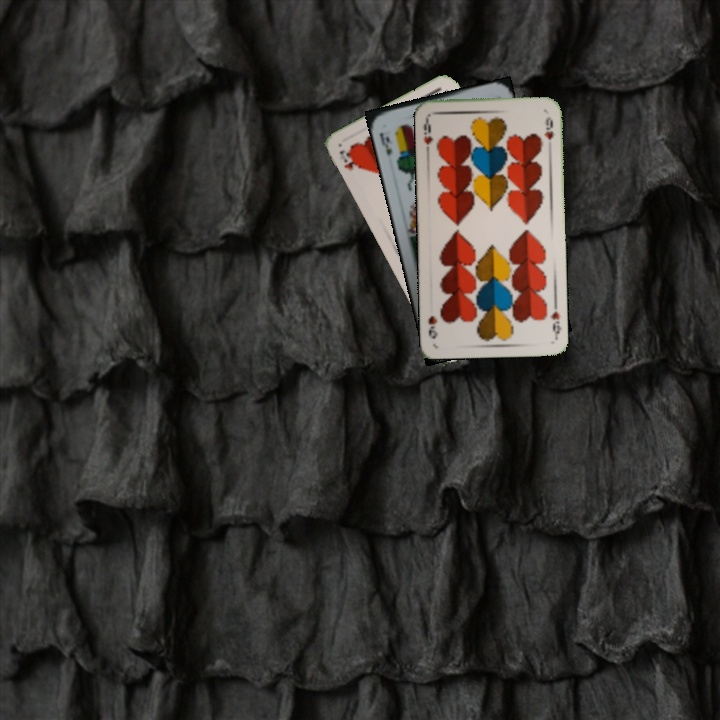EK: (375, 129, 395, 158)
H9: (420, 114, 435, 154), (547, 307, 563, 340)
HO: (335, 146, 362, 173)
